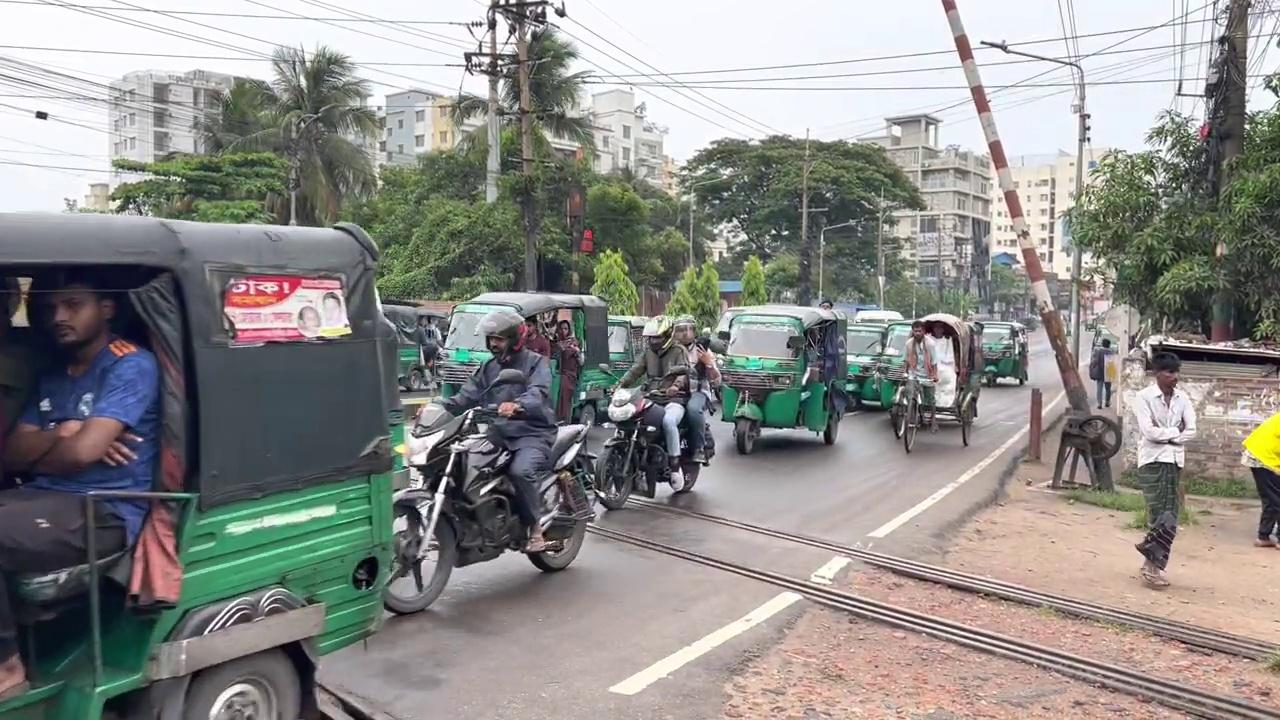Curb: (382, 398, 598, 615), (593, 380, 716, 509)
Fence: (0, 270, 161, 699), (435, 311, 558, 552), (1133, 352, 1197, 588), (1239, 410, 1279, 547), (1089, 337, 1115, 409)
Garbage: (979, 37, 1088, 374), (515, 30, 538, 290)
Motorcycle: (577, 485, 1277, 718)
Railroad-crossing: (208, 41, 385, 226)
Rickshaw: (0, 209, 406, 718)
